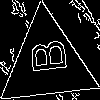B: (22, 38, 67, 76)
